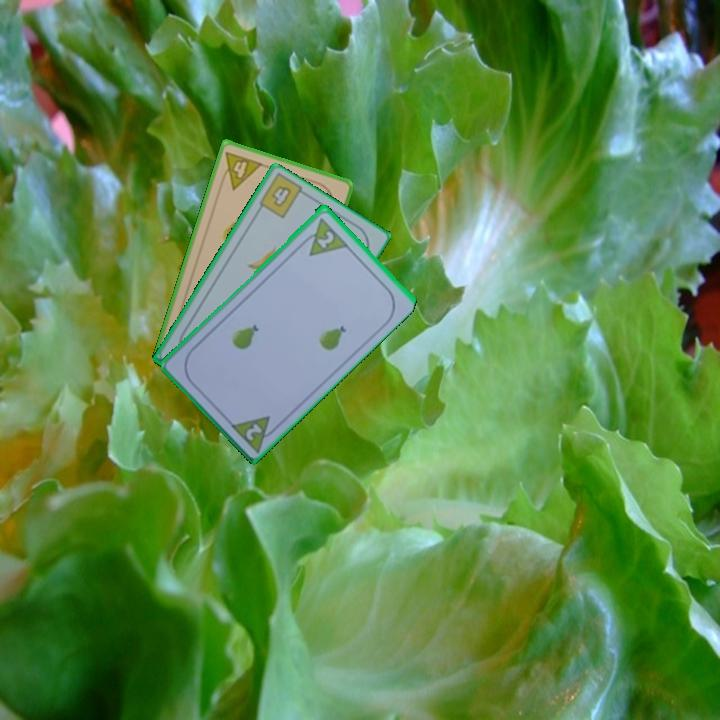2p: (313, 227, 337, 251), (242, 419, 265, 443)
4b: (268, 181, 294, 210)
4p: (216, 148, 266, 192)
